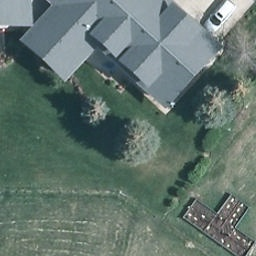car: (203, 0, 237, 35)
